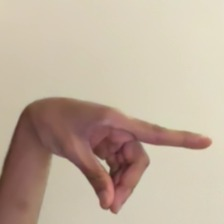P: (10, 80, 219, 224)
